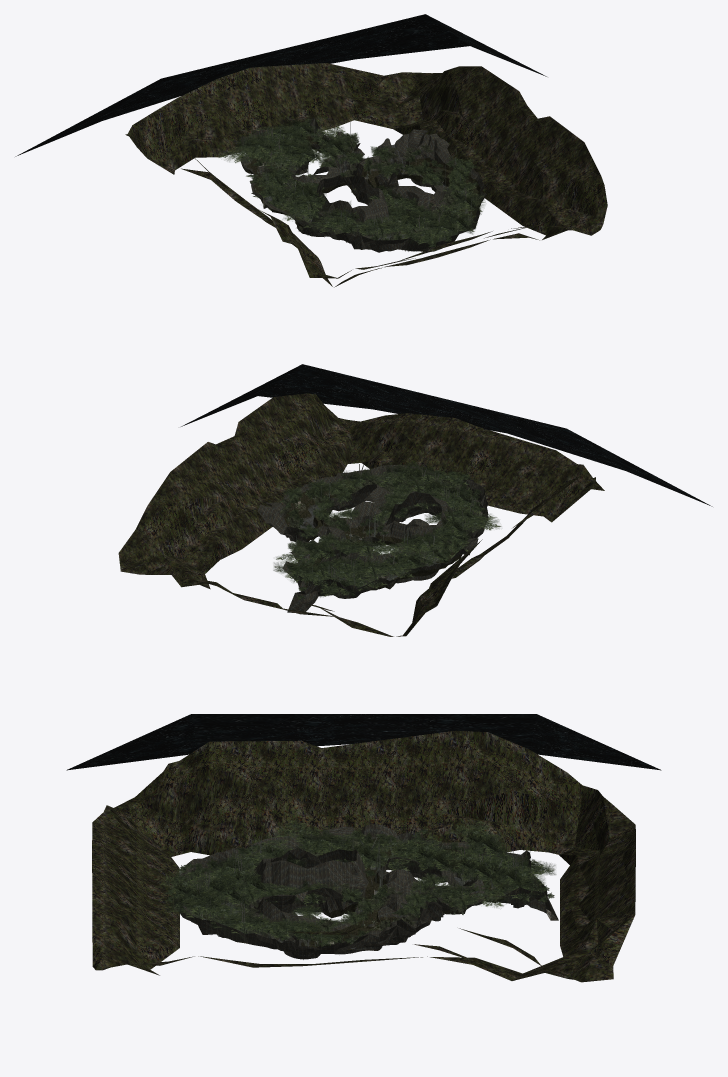
File: recovered_map_mp64.glb
3 views of the same model, one above another, from view 1: azimuth 30°, elevation 25°; view 2: azimuth 150°, elevation 25°; view 3: azimuth 270°, elevation 25° (orthographic). The views are drawn at different scales.
Visible parts, largest first — view 1: W_congo3r_ground1, W_shrub_backdrop, W_ground_rock_trans, S_mp64_skycap, W_treeshrub, W_treeshrub2, W_treetrunk; view 2: W_congo3r_ground1, W_shrub_backdrop, W_ground_rock_trans, S_mp64_skycap, W_treeshrub, W_treeshrub2, W_treetrunk; view 3: W_congo3r_ground1, W_shrub_backdrop, W_ground_rock_trans, S_mp64_skycap, W_treeshrub, W_treeshrub2, W_treetrunk, W_tree_trunk01.
Part boxes in pixels (x1,y1,x2,y2): W_congo3r_ground1: [125, 63, 607, 287]; W_shrub_backdrop: [217, 115, 485, 245]; W_ground_rock_trans: [240, 118, 486, 252]; S_mp64_skycap: [15, 14, 546, 156]; W_treeshrub: [246, 130, 478, 247]; W_treeshrub2: [282, 137, 466, 251]; W_treetrunk: [251, 118, 472, 242]; W_congo3r_ground1: [118, 393, 604, 636]; W_shrub_backdrop: [273, 458, 501, 597]; W_ground_rock_trans: [257, 465, 488, 612]; S_mp64_skycap: [181, 364, 712, 506]; W_treeshrub: [279, 467, 485, 599]; W_treeshrub2: [279, 478, 475, 596]; W_treetrunk: [286, 464, 475, 595]; W_congo3r_ground1: [92, 730, 635, 982]; W_shrub_backdrop: [159, 819, 556, 945]; W_ground_rock_trans: [174, 824, 558, 959]; S_mp64_skycap: [66, 714, 661, 770]; W_treeshrub: [164, 828, 554, 947]; W_treeshrub2: [186, 839, 521, 940]; W_treetrunk: [202, 832, 522, 946]; W_tree_trunk01: [196, 832, 516, 959].
Size of what is drawn, in the model's own units: 542 by 131 by 502.
25 materials, 25 textured.
